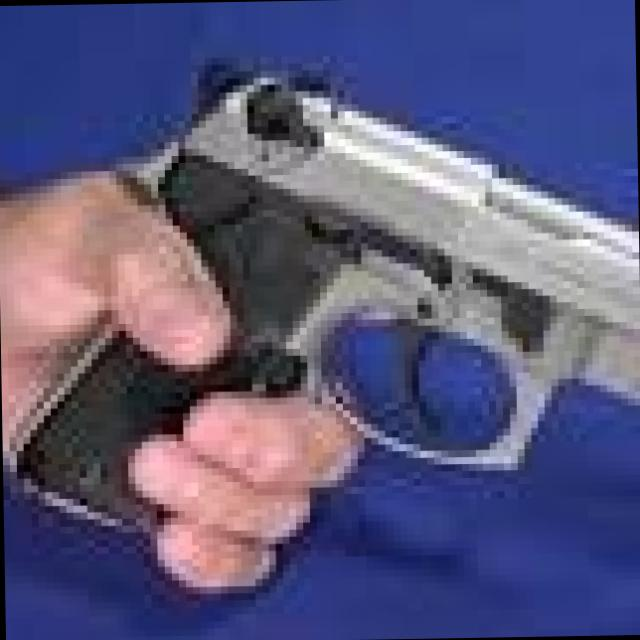Gun: (0, 58, 609, 555)
